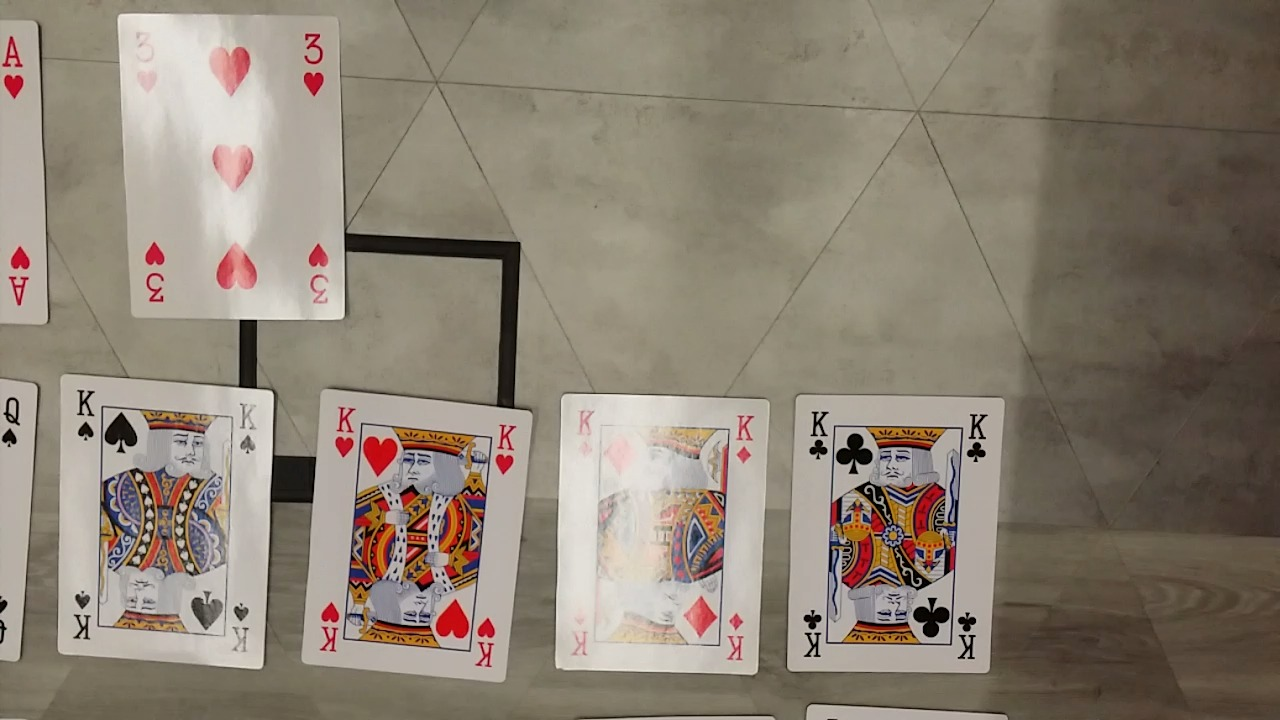3_heart: (108, 5, 354, 322)
king_club: (777, 390, 1008, 674)
king_diamond: (554, 391, 772, 676)
king_heart: (299, 386, 534, 685)
king_spade: (58, 374, 269, 672)
